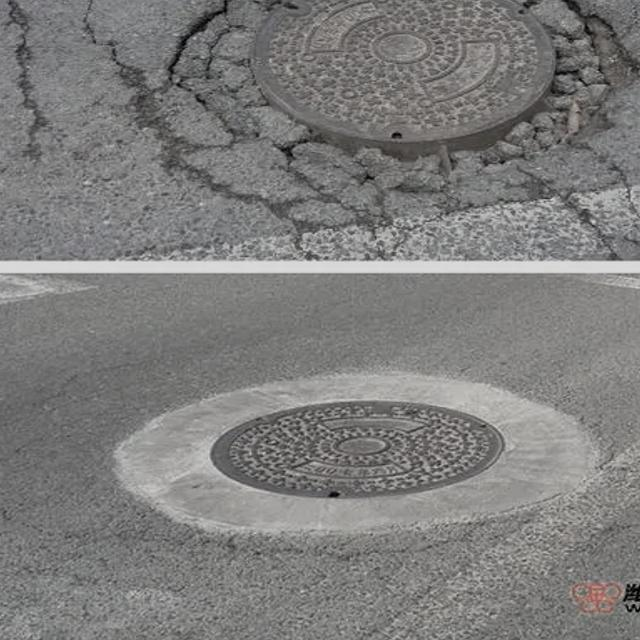circle: (139, 0, 640, 211)
